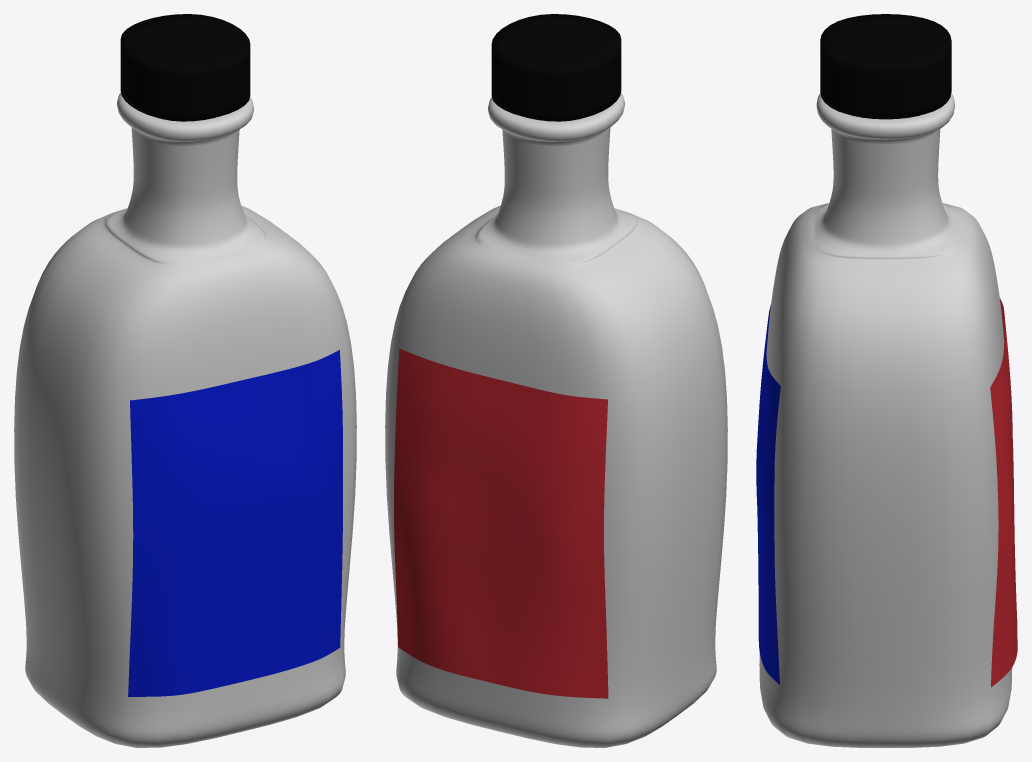
The model's file is botella.fbx.
3 renders of one model, left to right at view 1: azimuth 30°, elevation 25°; view 2: azimuth 150°, elevation 25°; view 3: azimuth 270°, elevation 25°, orthographic.
Visible parts, largest first — view 1: Cube; view 2: Cube; view 3: Cube.
Boxes of the visible parts, left/top/right/bottom form: Cube: left=14, top=14, right=356, bottom=747; Cube: left=385, top=14, right=727, bottom=747; Cube: left=756, top=14, right=1017, bottom=747.
Bounding box in the file's own units: 296 × 658 × 237.
